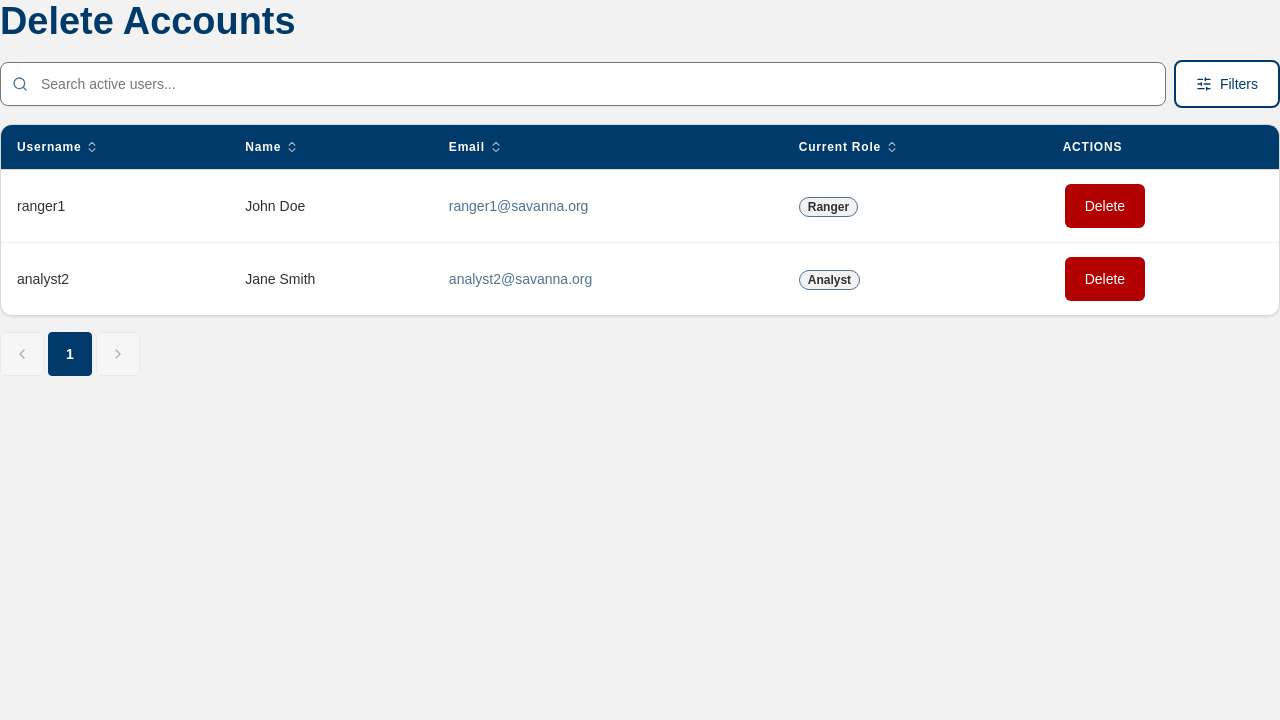
Scenario: DeleteAccounts - Delete Accounts › confirm closes the dialog and removes the deleted user from the list
Expected: the text "ranger1" is shown, [1,169,229,242]
Click the button "Delete" in the row of "John Doe" at (1105, 206), box [1063,182,1147,230]
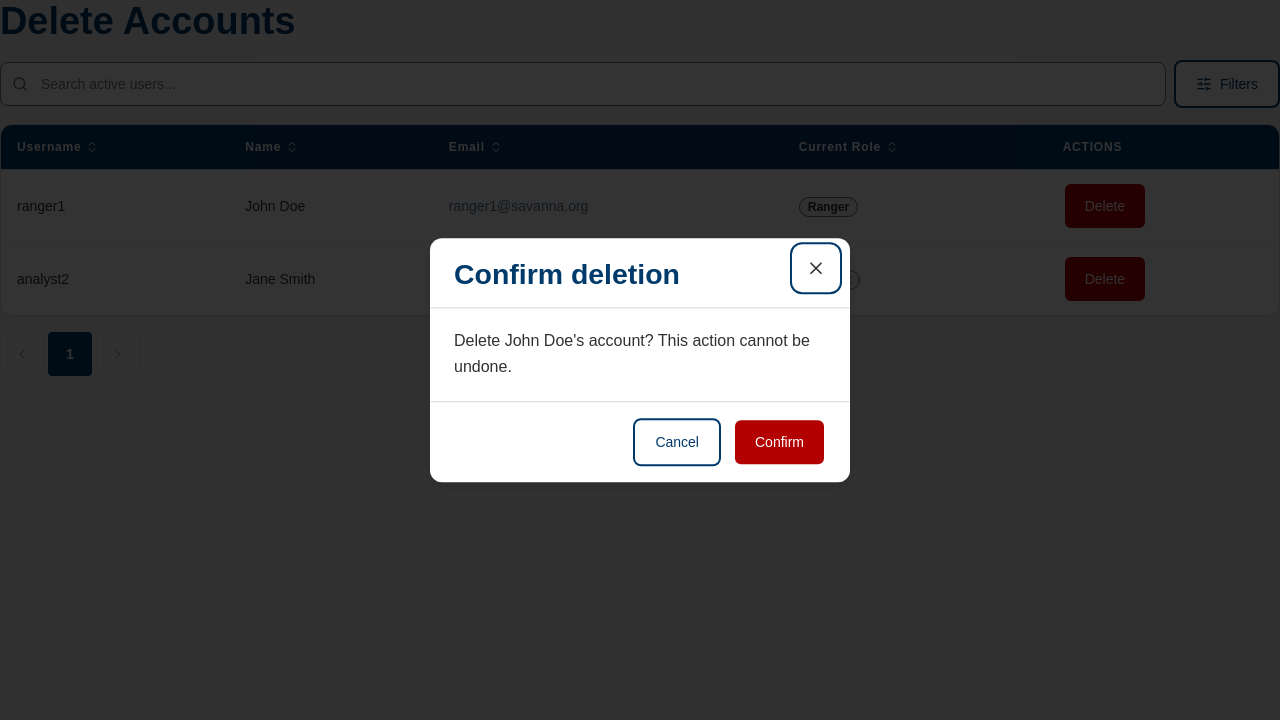
Click the button "Confirm" at (780, 442), box [733,418,826,466]
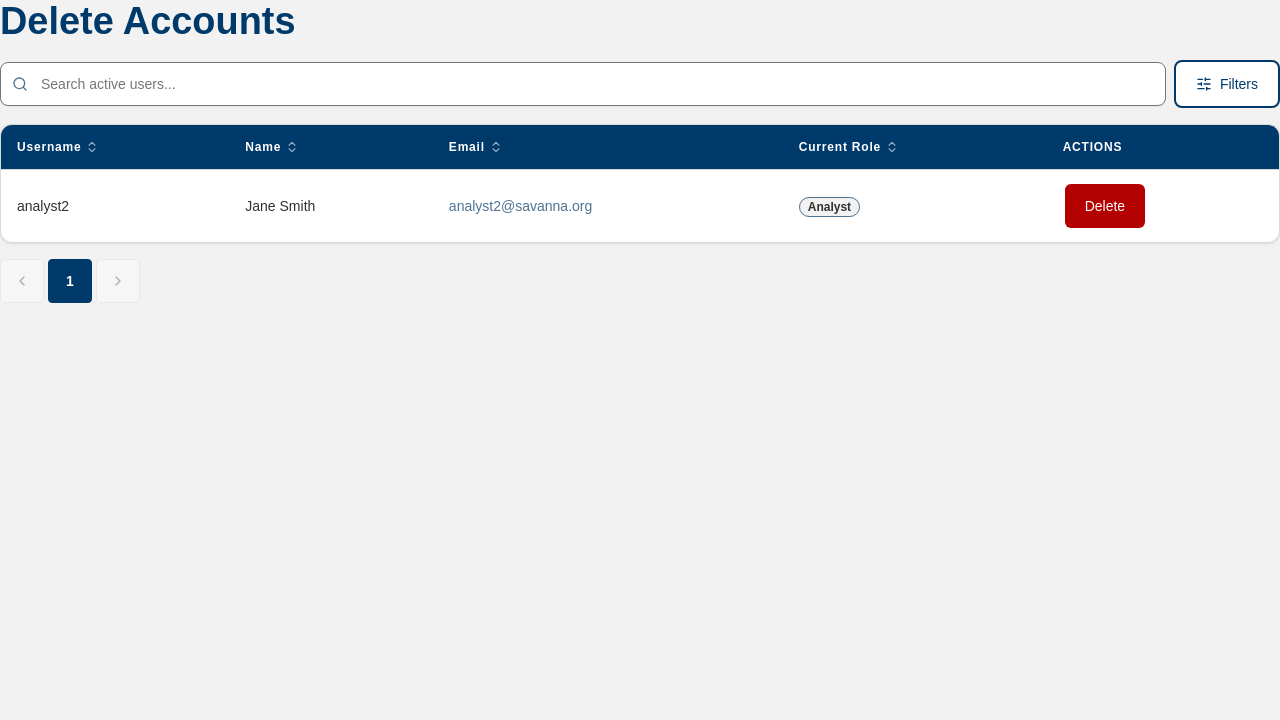
Expected: the text "analyst2" is shown, [1,169,229,242]
Result: the dialog is gone
Result: the text "ranger1" is gone
